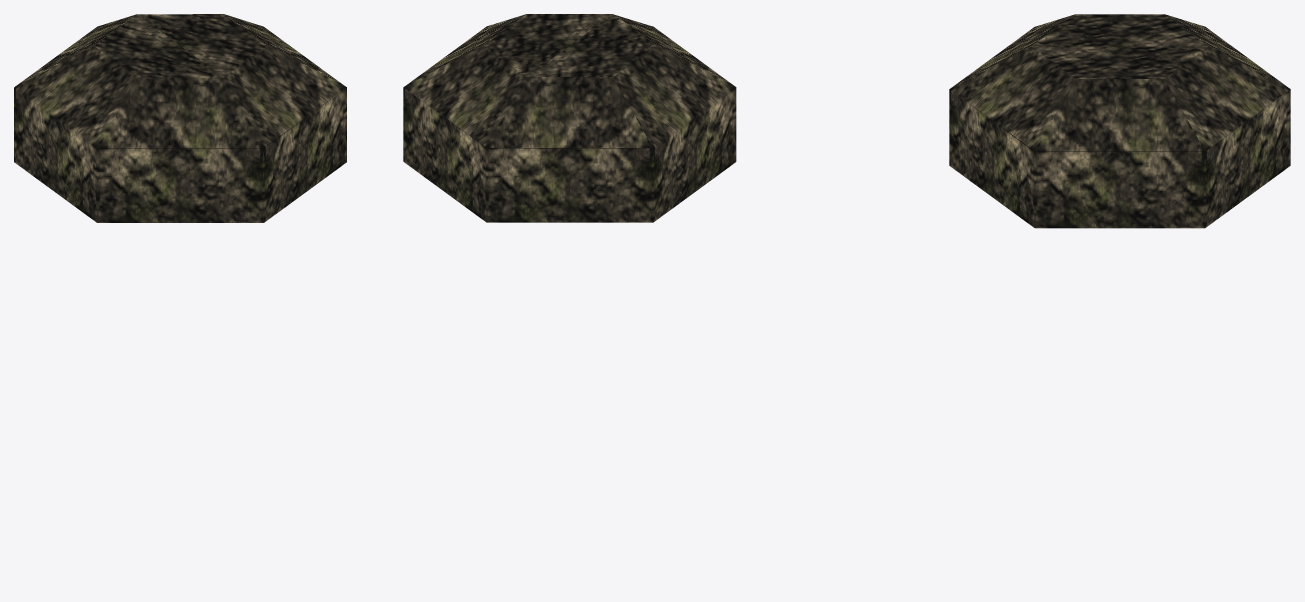
The model's file is autocannoncamo2.glb.
The picture shows the model from 3 angles, left to right: view 1: azimuth 30°, elevation 25°; view 2: azimuth 150°, elevation 25°; view 3: azimuth 270°, elevation 25°; orthographic projection. The views are drawn at different scales.
Parts seen in each view (by area): view 1: Doorbase, Door05, Door06, Door03, Door02; view 2: Doorbase, Door02, Door06, Door03, Door05; view 3: Doorbase, Door03, Door02, Door05, Door06.
Part boxes in pixels (x1=…): Doorbase: x1=14, y1=30, x2=346, y2=222; Door05: x1=97, y1=45, x2=346, y2=148; Door06: x1=14, y1=14, x2=223, y2=148; Door03: x1=138, y1=14, x2=344, y2=85; Door02: x1=15, y1=14, x2=236, y2=86; Doorbase: x1=403, y1=26, x2=736, y2=222; Door02: x1=404, y1=45, x2=652, y2=147; Door06: x1=527, y1=14, x2=735, y2=147; Door03: x1=404, y1=14, x2=612, y2=86; Door05: x1=499, y1=14, x2=734, y2=86; Doorbase: x1=949, y1=27, x2=1290, y2=228; Door03: x1=1032, y1=46, x2=1207, y2=151; Door02: x1=1164, y1=14, x2=1290, y2=151; Door05: x1=950, y1=14, x2=1075, y2=151; Door06: x1=1031, y1=14, x2=1207, y2=46.
Size of the model in its own units: 7.27 by 13.6 by 12.21.
4 materials, 4 textured.
